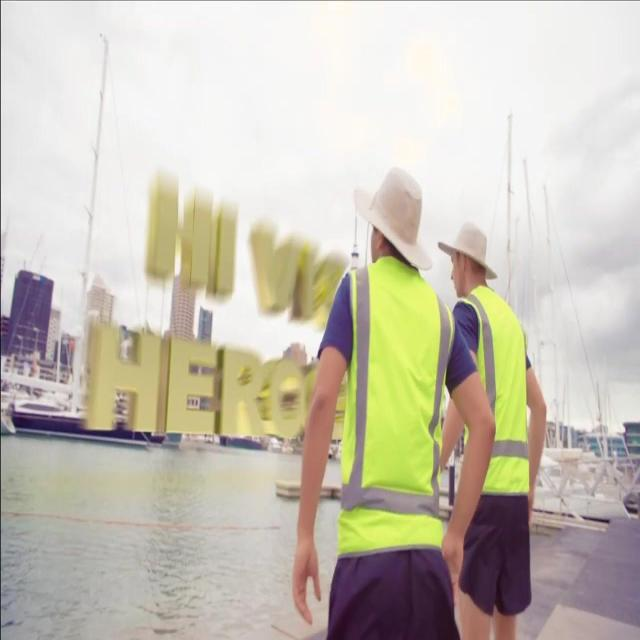Vest: (333, 257, 457, 559), (454, 283, 532, 497)
